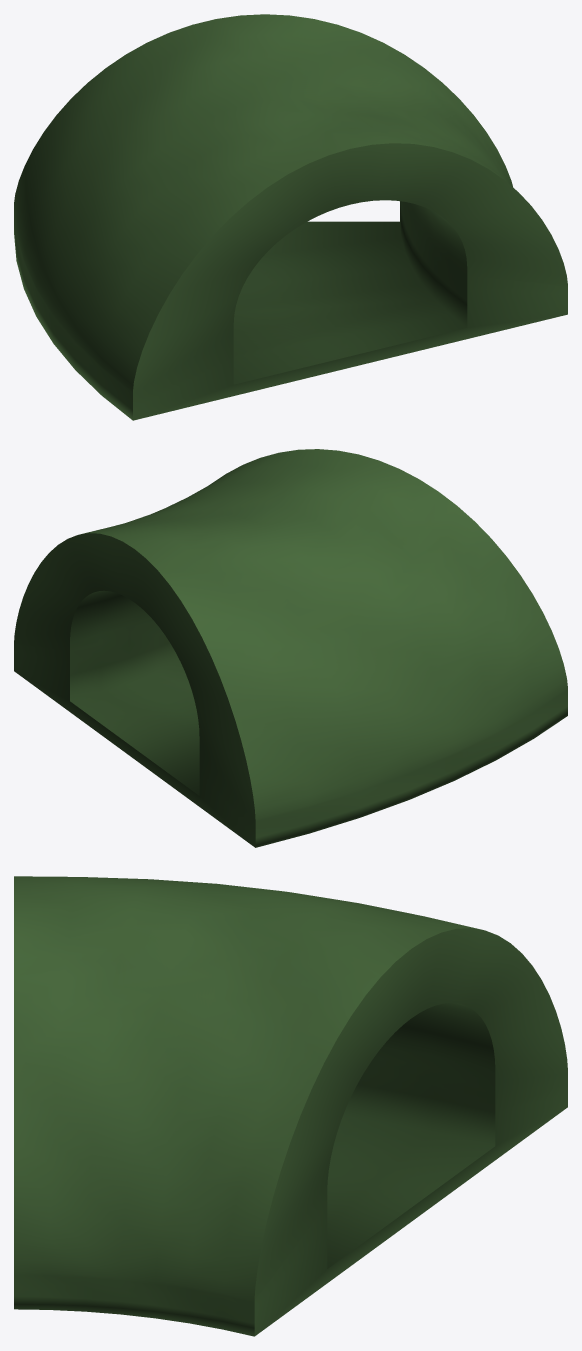
File: curve_right_30_terrain_lod1.glb
3 renders of one model, top to bottom at view 1: azimuth 30°, elevation 25°; view 2: azimuth 150°, elevation 25°; view 3: azimuth 270°, elevation 25°, orthographic. The views are drawn at different scales.
Parts seen in each view (by area): view 1: TerrainRoof.009; view 2: TerrainRoof.009; view 3: TerrainRoof.009.
Boxes of the visible parts, x1,y1,x2,y2 form: TerrainRoof.009: (14,14,567,420); TerrainRoof.009: (14,449,567,847); TerrainRoof.009: (14,876,567,1336).
Size of the model in its own units: 31.32 by 13.65 by 25.1.
